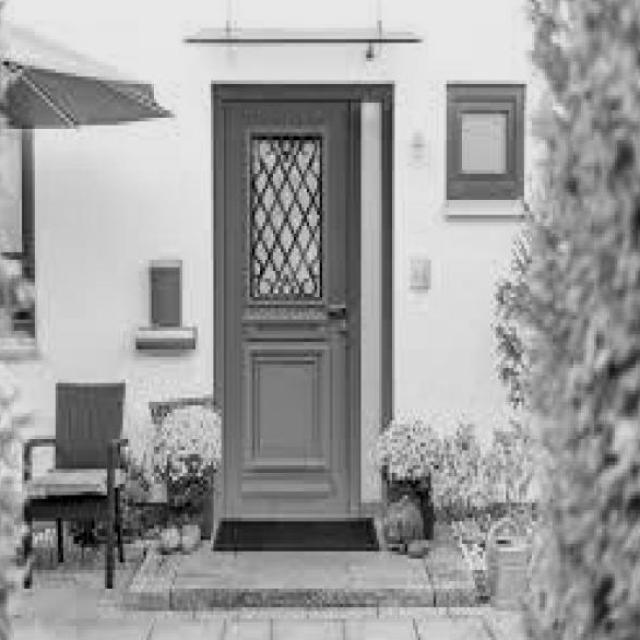door: (215, 89, 365, 523)
